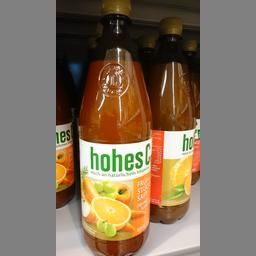juice: (75, 0, 152, 255), (142, 12, 196, 222)
